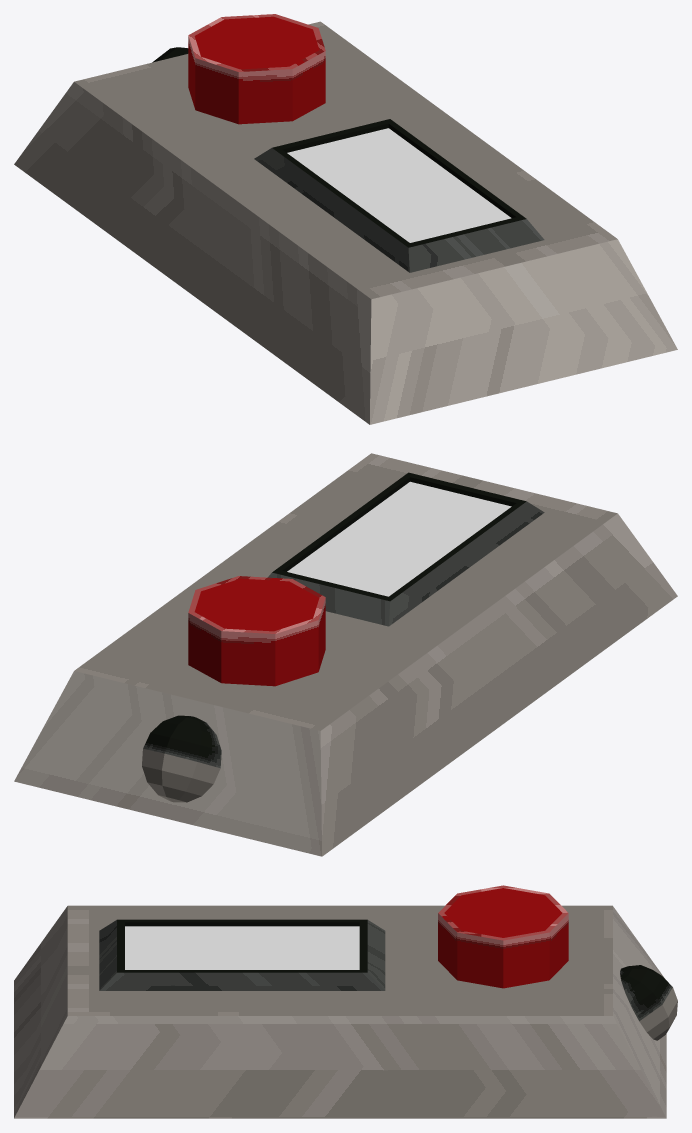
The model's file is Button.fbx.
3 views of the same model, one above another, from view 1: azimuth 30°, elevation 25°; view 2: azimuth 150°, elevation 25°; view 3: azimuth 270°, elevation 25° (orthographic). The views are drawn at different scales.
Parts seen in each view (by area): view 1: Base, Button, ColorPanel, ColorPanelBase; view 2: Base, Button, ColorPanel, ColorPanelBase, OnOffBubble; view 3: Base, Button, ColorPanelBase, ColorPanel, OnOffBubble.
Part boxes in pixels (left/top/right/bottom): Base: left=14, top=21, right=677, bottom=424; Button: left=188, top=14, right=325, bottom=124; ColorPanel: left=287, top=128, right=511, bottom=242; ColorPanelBase: left=254, top=119, right=544, bottom=272; Base: left=14, top=453, right=677, bottom=856; Button: left=188, top=576, right=325, bottom=686; ColorPanel: left=287, top=481, right=511, bottom=596; ColorPanelBase: left=268, top=472, right=544, bottom=626; OnOffBubble: left=142, top=715, right=221, bottom=802; Base: left=14, top=905, right=666, bottom=1118; Button: left=438, top=885, right=568, bottom=988; ColorPanelBase: left=99, top=919, right=385, bottom=990; ColorPanel: left=125, top=926, right=359, bottom=969; OnOffBubble: left=620, top=965, right=677, bottom=1040.
Bounding box in the file's own units: 100 × 46.2 × 204.
